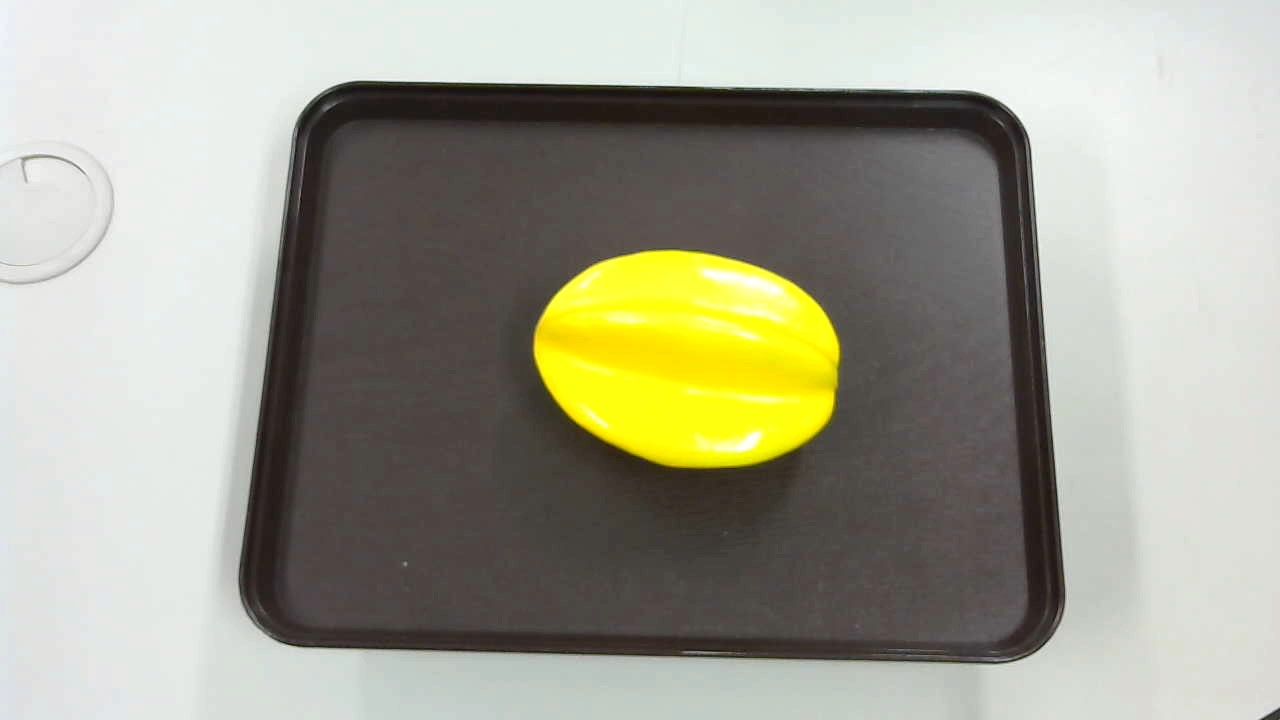star fruit: (524, 247, 844, 480)
